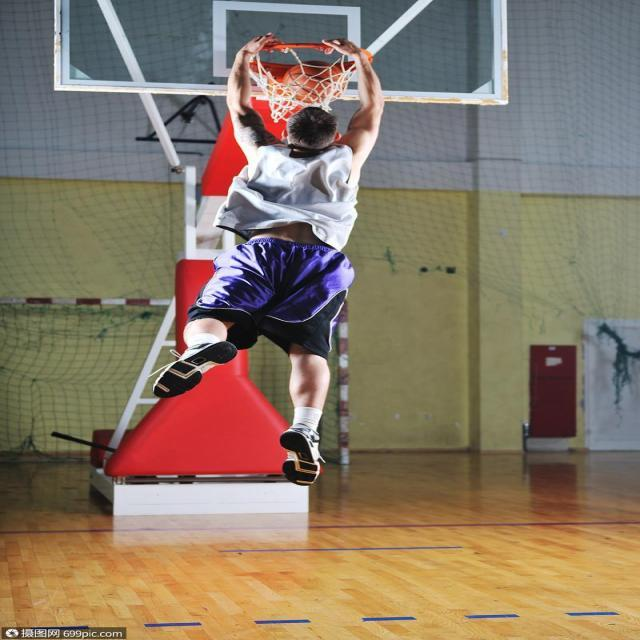rim: (284, 59, 346, 102)
